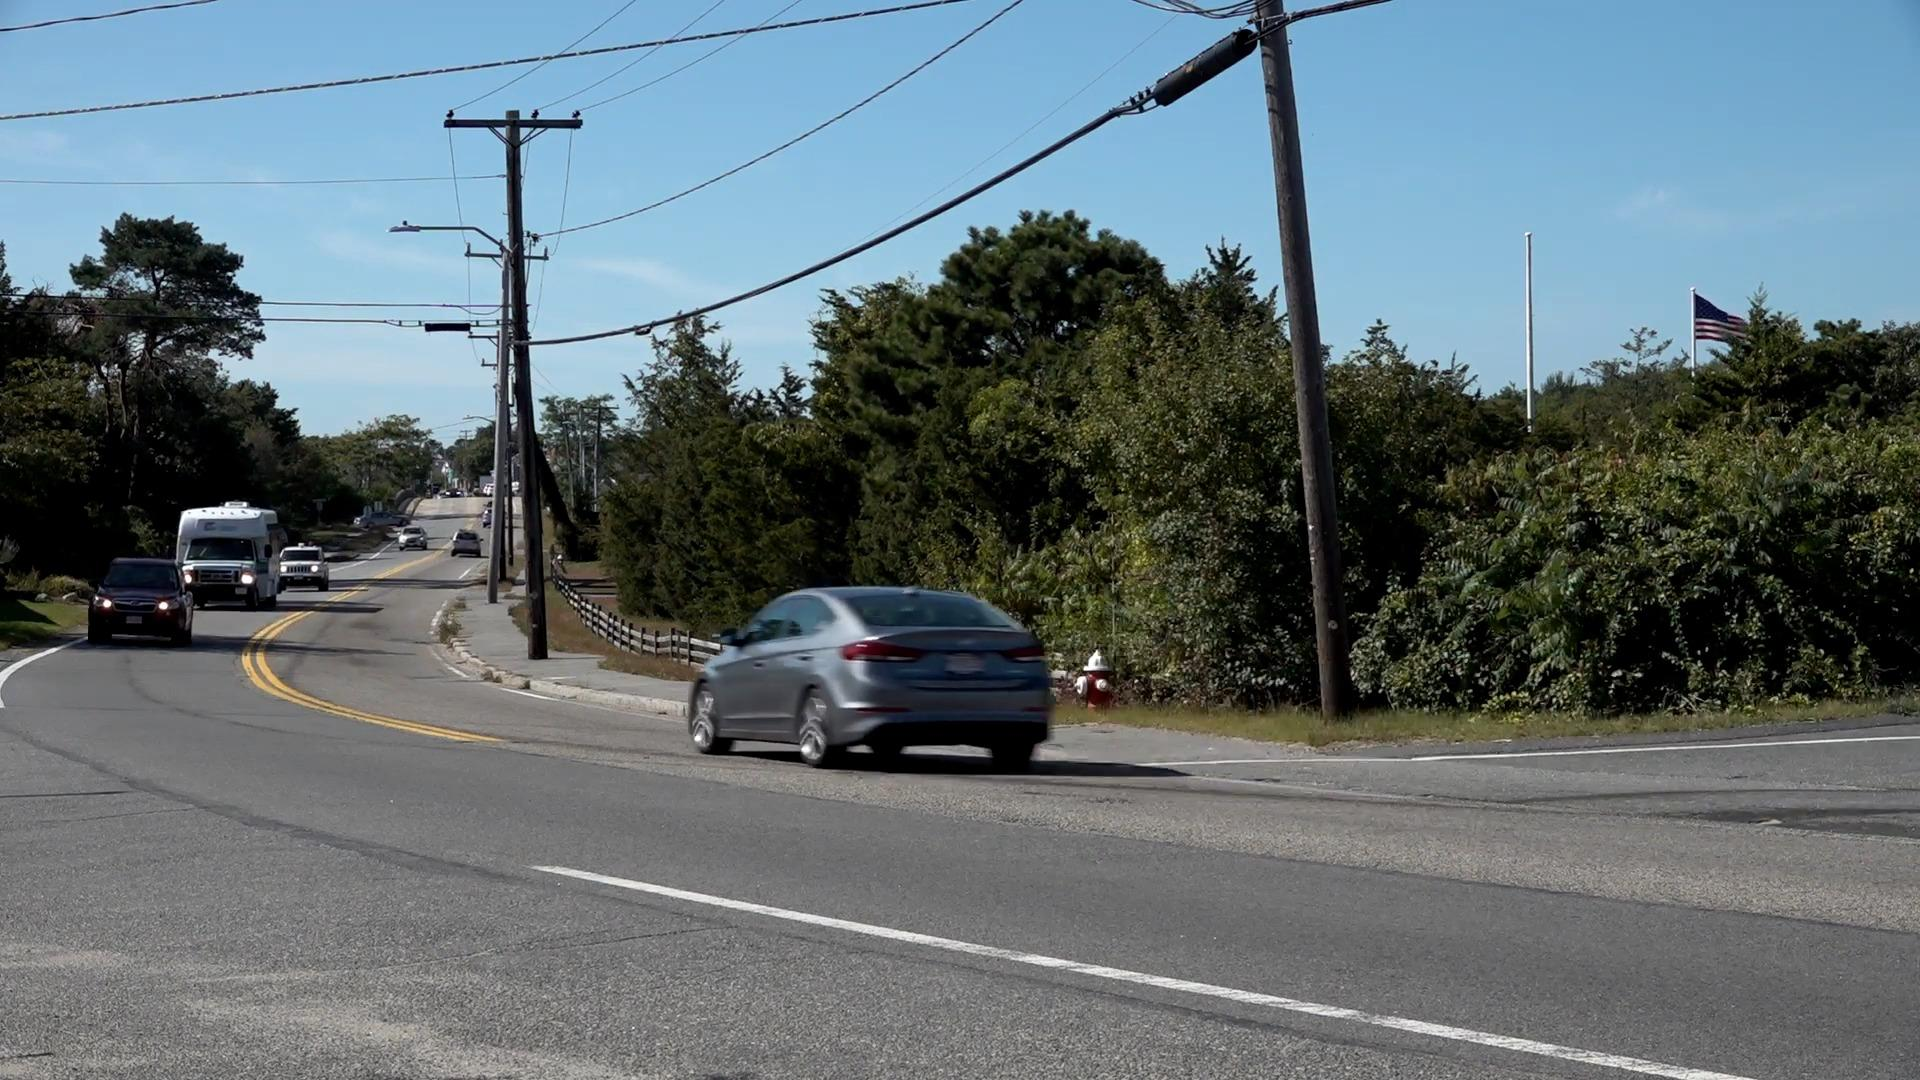sedans: (683, 580, 1056, 777)
suv: (91, 556, 196, 647)
truck: (174, 500, 284, 613)
